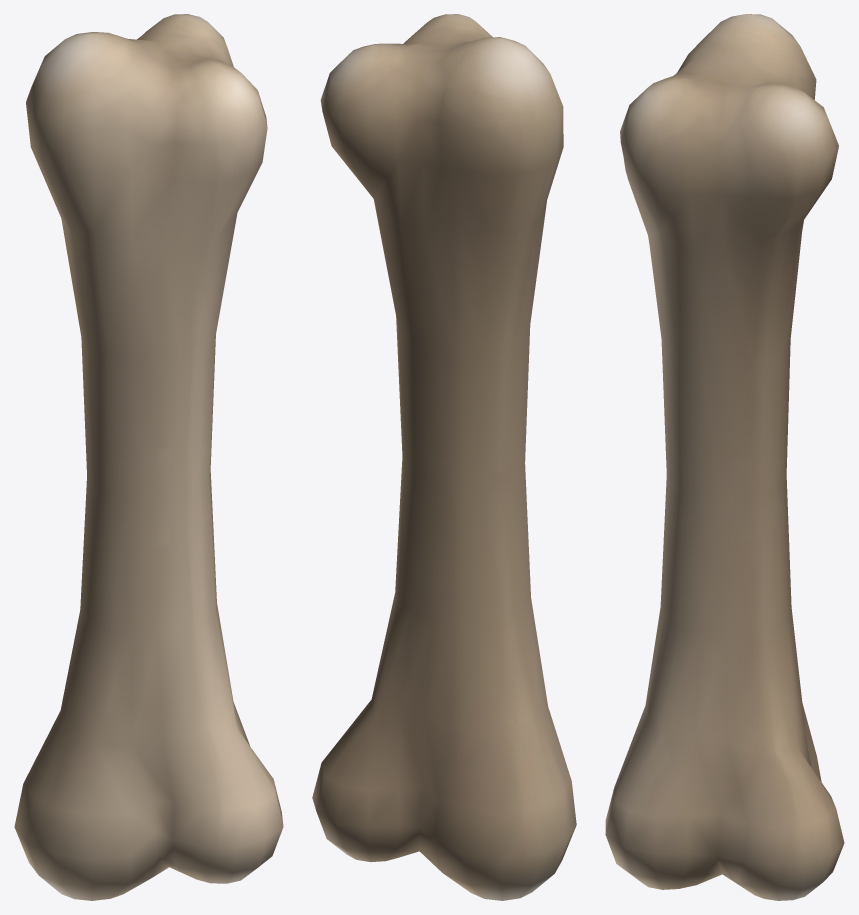
Rendered from DE_Bone_03.fbx.
The picture shows the model from 3 angles, left to right: view 1: azimuth 30°, elevation 25°; view 2: azimuth 150°, elevation 25°; view 3: azimuth 270°, elevation 25°; orthographic projection.
Parts seen in each view (by area): view 1: DE_Bone_03; view 2: DE_Bone_03; view 3: DE_Bone_03.
Boxes of the visible parts, x1,y1,x2,y2 form: DE_Bone_03: (14, 14, 283, 900); DE_Bone_03: (312, 14, 576, 900); DE_Bone_03: (605, 14, 844, 900).
Size of the model in its own units: 0.5918 by 2.13 by 0.5388.
